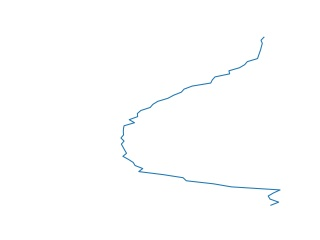underwaterDistributaryChannel: (114, 38, 286, 207)
